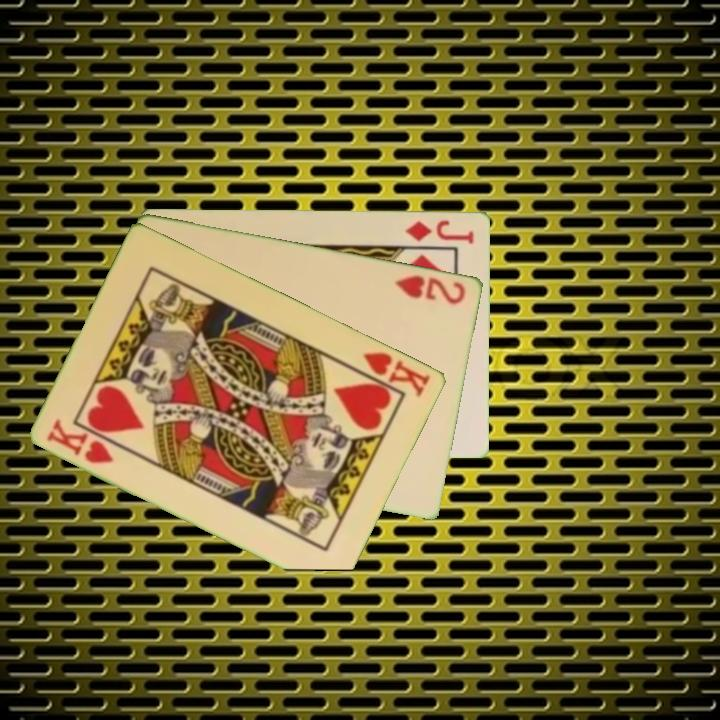2h: (392, 271, 469, 307)
Jd: (402, 216, 477, 246)
Kh: (349, 348, 434, 400), (43, 415, 118, 467)
